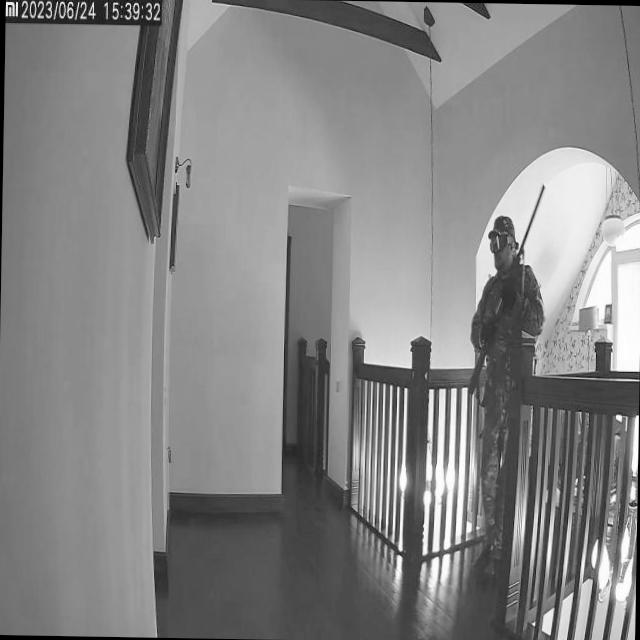gun: (468, 180, 548, 392)
person with a gun: (466, 180, 547, 587)
